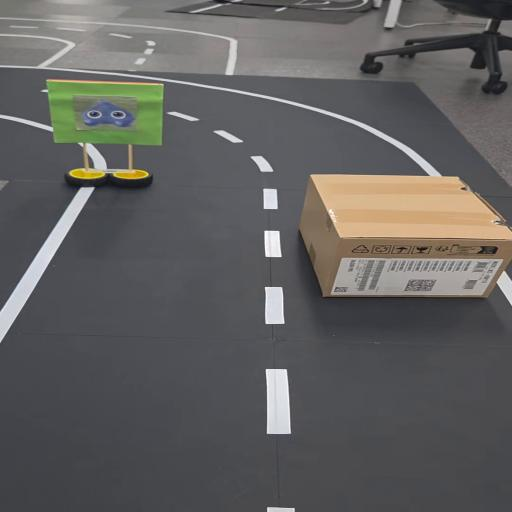Box: (292, 170, 512, 309)
Sign_B: (41, 75, 170, 195)
